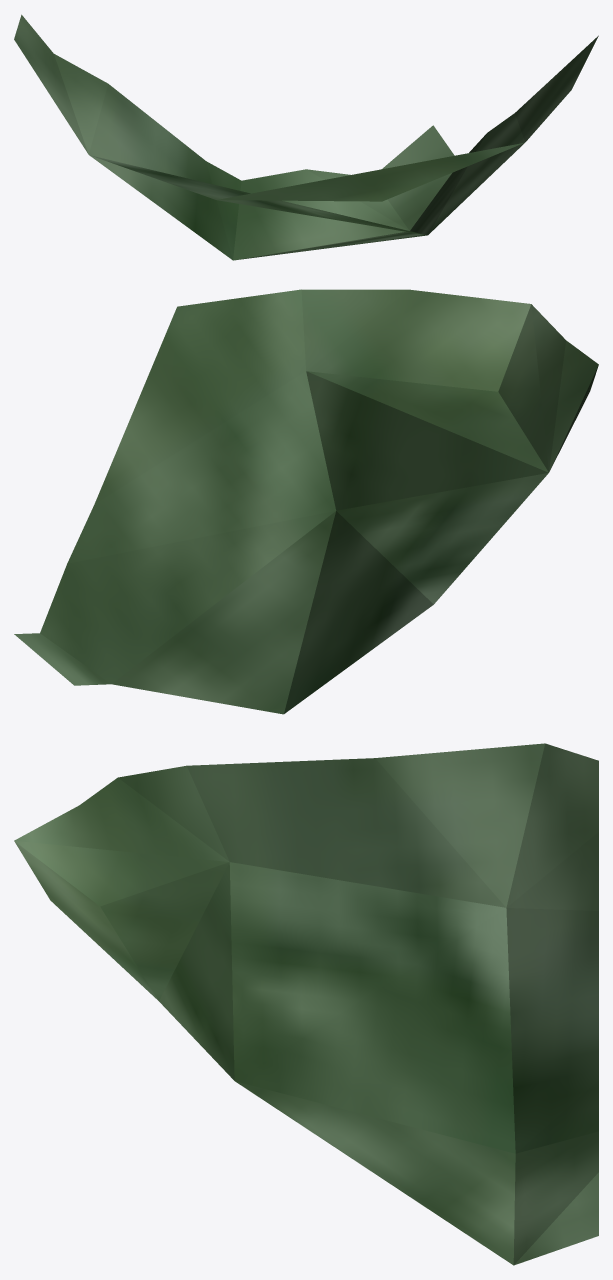
3 renders of one model, top to bottom at view 1: azimuth 30°, elevation 25°; view 2: azimuth 150°, elevation 25°; view 3: azimuth 270°, elevation 25°, orthographic. The views are drawn at different scales.
Size of the model in its own units: 0.3265 by 0.1934 by 0.3297.
1 material, 1 textured.
